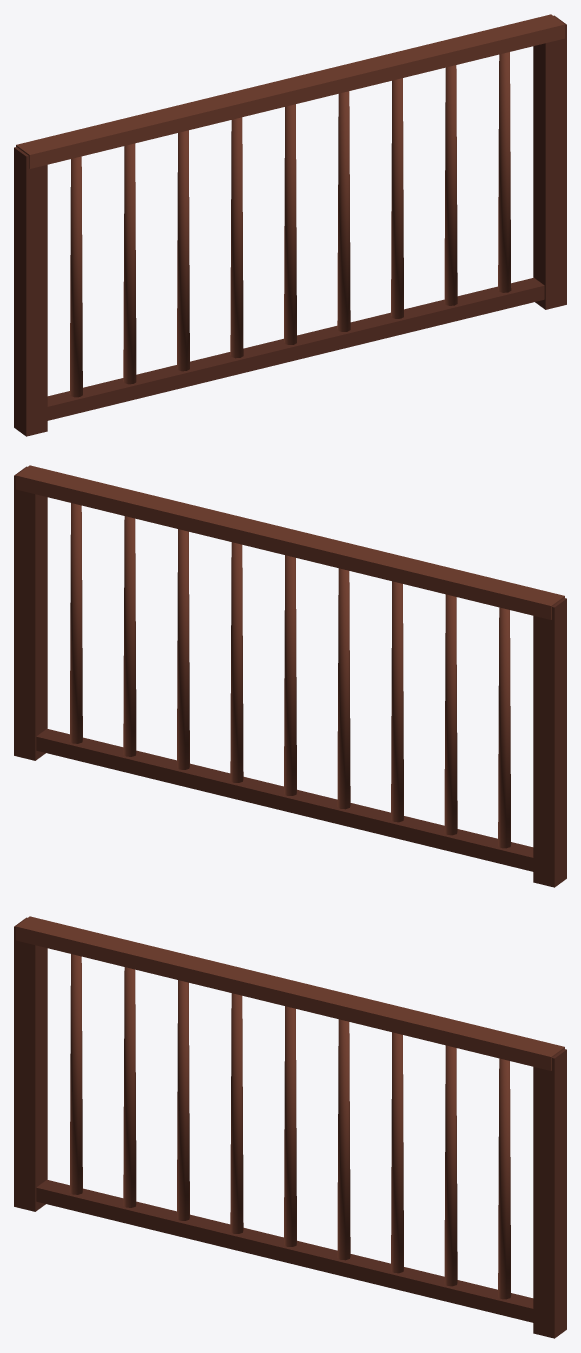
File: SM_ENV_GuardaCorpo.fbx
3 renders of one model, top to bottom at view 1: azimuth 30°, elevation 25°; view 2: azimuth 150°, elevation 25°; view 3: azimuth 330°, elevation 25°, orthographic.
Parts seen in each view (by area): view 1: SM_ENV_GuardaCorpo; view 2: SM_ENV_GuardaCorpo; view 3: SM_ENV_GuardaCorpo.
Boxes of the visible parts, left/top/right/bottom form: SM_ENV_GuardaCorpo: left=14, top=14, right=566, bottom=436; SM_ENV_GuardaCorpo: left=14, top=465, right=566, bottom=887; SM_ENV_GuardaCorpo: left=14, top=916, right=566, bottom=1338.
Size of the model in its own units: 2.02 by 1.01 by 0.09.
